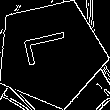L_E: (22, 33, 79, 74)
